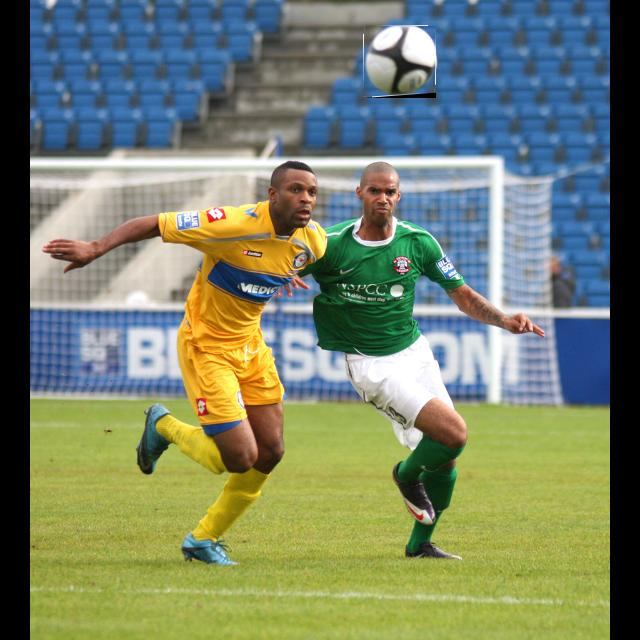Football: (364, 26, 436, 98)
